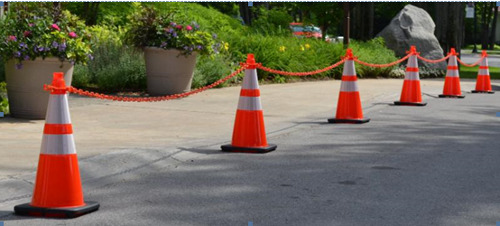cones: (23, 69, 99, 217), (224, 52, 279, 156), (328, 48, 375, 129), (394, 44, 431, 106), (439, 46, 469, 102), (475, 48, 497, 93)
